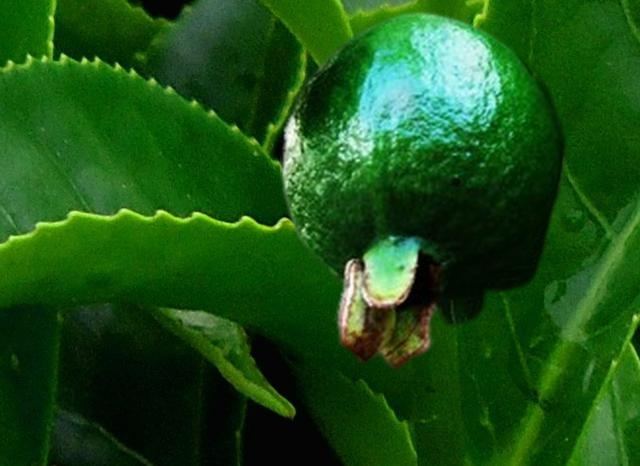guava: (280, 9, 568, 370)
